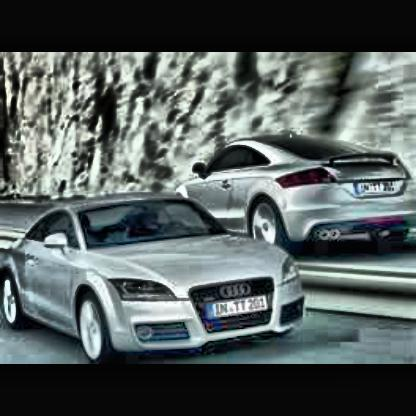Audi TTS Coupe 2012: (5, 196, 310, 364)
